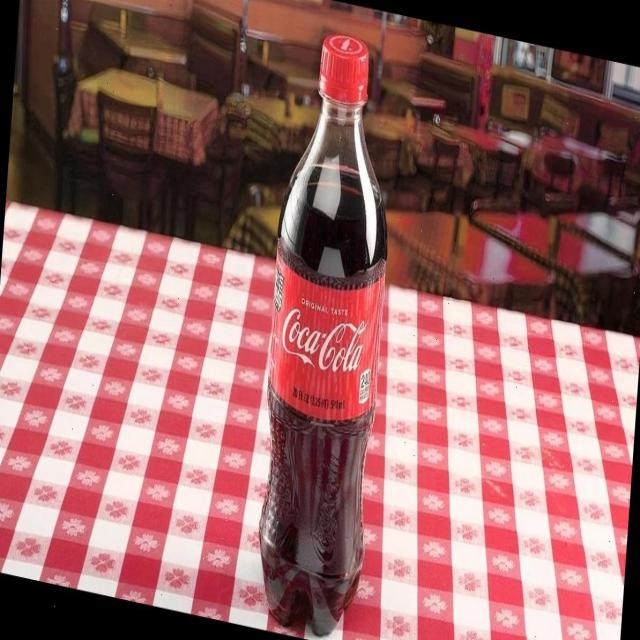coca-cola: (243, 18, 405, 640)
